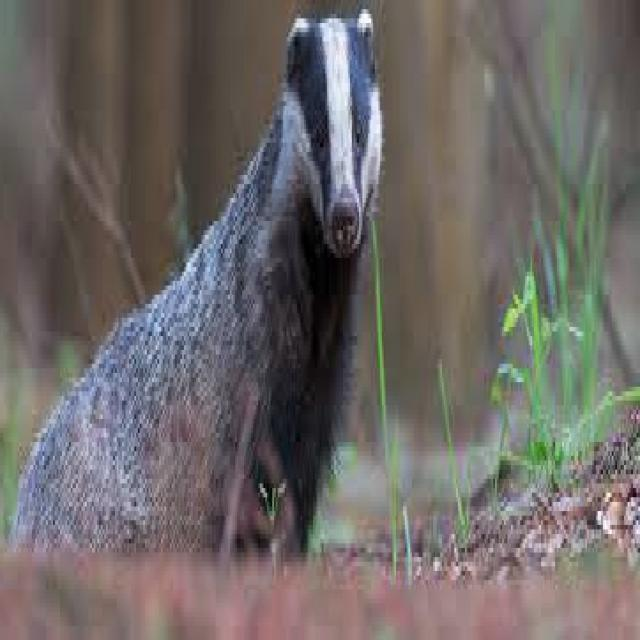badger: (18, 9, 382, 548)
